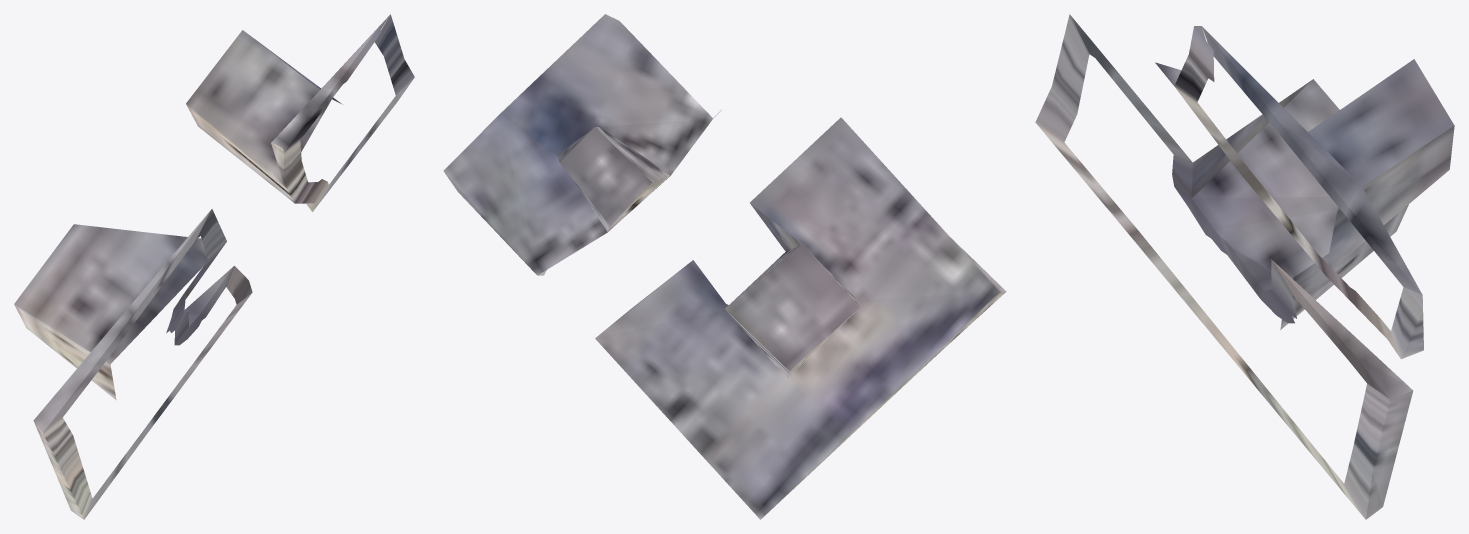
3 renders of one model, left to right at view 1: azimuth 30°, elevation 25°; view 2: azimuth 150°, elevation 25°; view 3: azimuth 270°, elevation 25°, orthographic. The views are drawn at different scales.
Size of the model in its own units: 44.22 by 40.04 by 23.32.
Materials: 1 (1 with a texture image).
